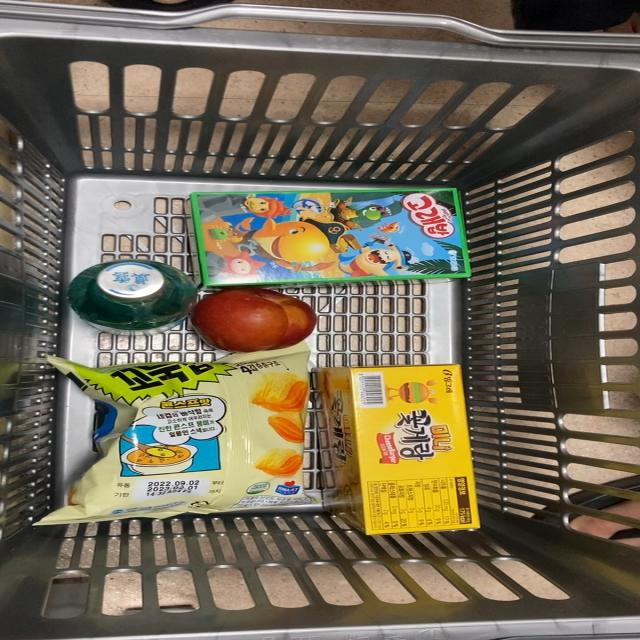ggobukchip: (54, 344, 310, 521)
goraebob: (180, 184, 480, 288)
jinro: (69, 259, 194, 329)
minicrab: (322, 358, 476, 538)
plum: (189, 290, 319, 356)
